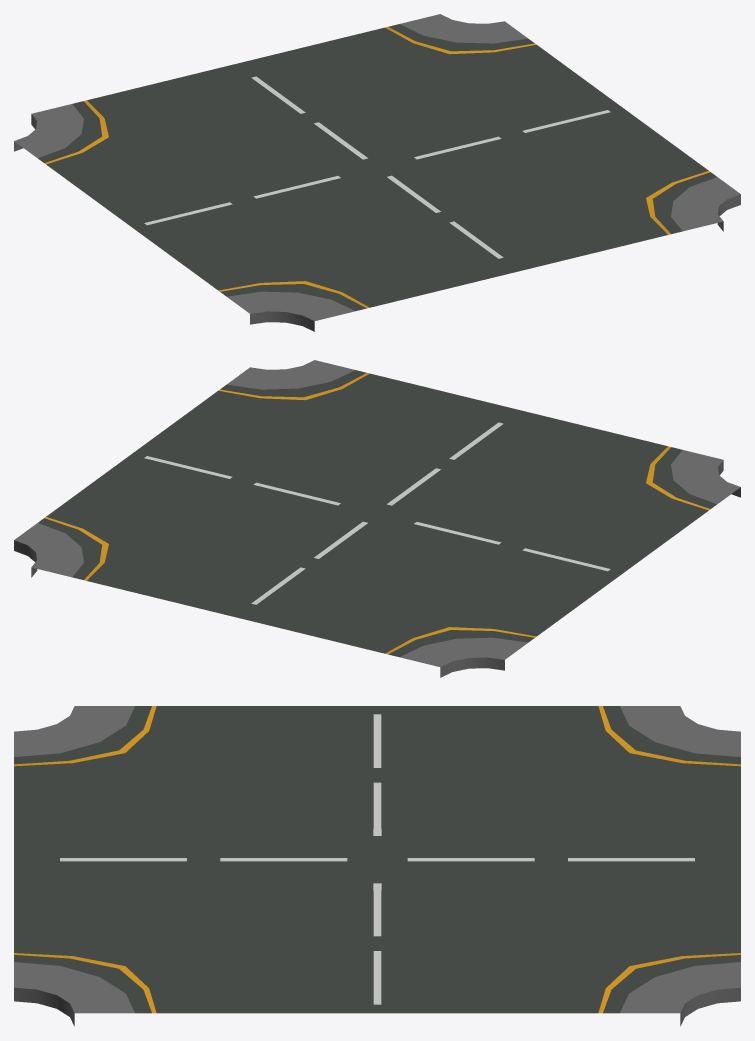
The model's file is SM_Road_2.FBX.
The picture shows the model from 3 angles, top to bottom: view 1: azimuth 30°, elevation 25°; view 2: azimuth 150°, elevation 25°; view 3: azimuth 270°, elevation 25°; orthographic projection. The views are drawn at different scales.
Visible parts, largest first — view 1: SM_Road_2; view 2: SM_Road_2; view 3: SM_Road_2.
Boxes of the visible parts, x1=… form: SM_Road_2: x1=14, y1=14, x2=740, y2=331; SM_Road_2: x1=14, y1=360, x2=740, y2=677; SM_Road_2: x1=14, y1=706, x2=740, y2=1026.
Size of what is drawn, in the model's own units: 1200 by 1200 by 25.
